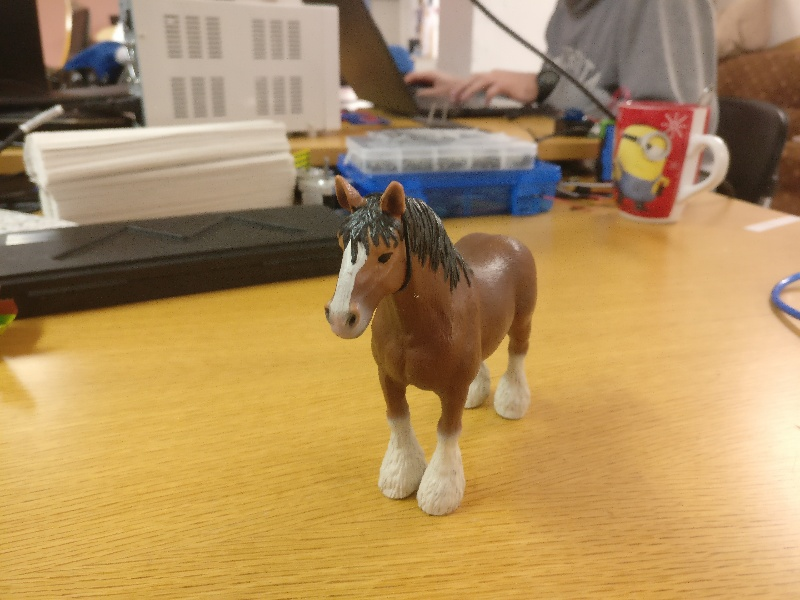toy: (322, 169, 541, 519)
